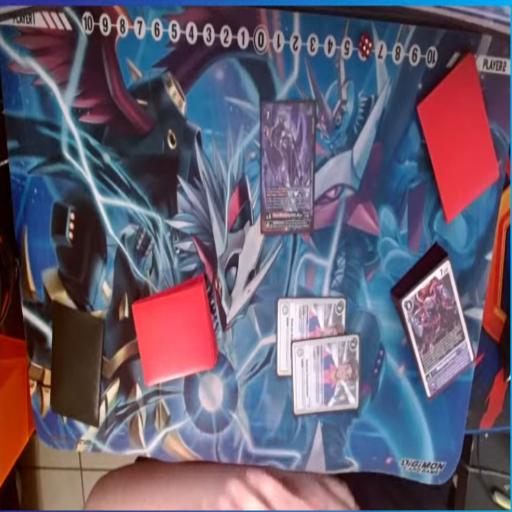card: (391, 243, 475, 399), (260, 98, 318, 236), (291, 335, 363, 416), (276, 298, 346, 379)
